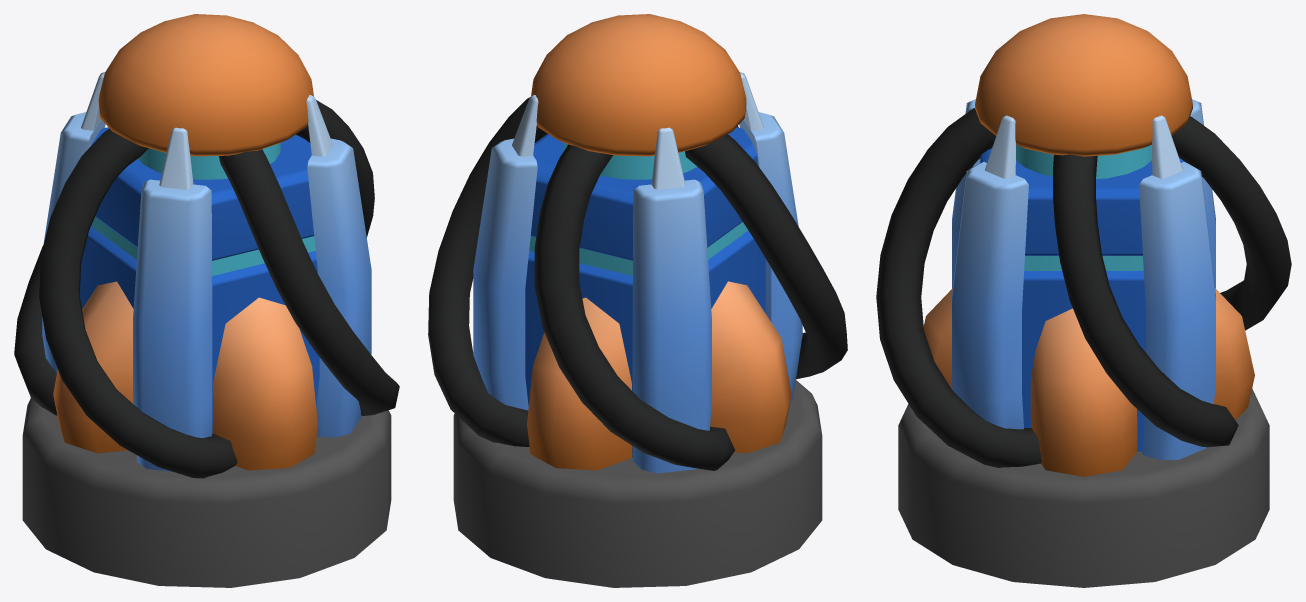
File: obstacle_3_001.fbx
3 renders of one model, left to right at view 1: azimuth 30°, elevation 25°; view 2: azimuth 150°, elevation 25°; view 3: azimuth 270°, elevation 25°, orthographic.
Parts seen in each view (by area): view 1: obstacle_3_001; view 2: obstacle_3_001; view 3: obstacle_3_001.
Boxes of the visible parts, x1,y1,x2,y2 form: obstacle_3_001: (14,14,399,587); obstacle_3_001: (428,14,847,587); obstacle_3_001: (876,14,1291,587).
Bounding box in the file's own units: 224 × 224 × 287.
